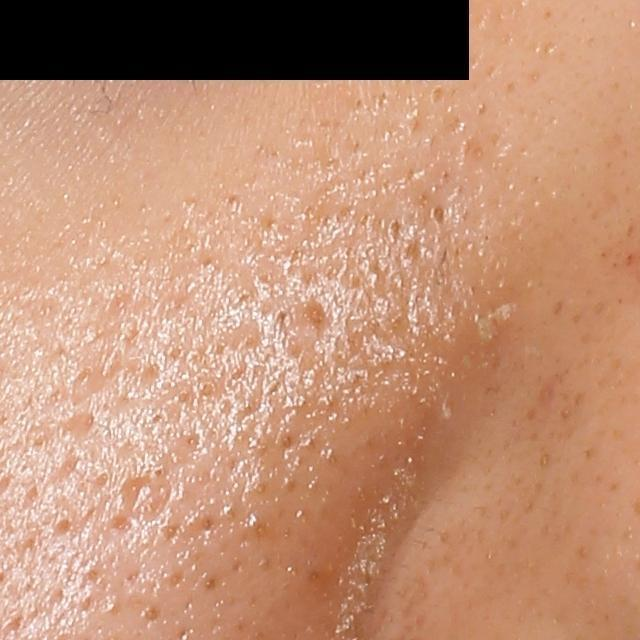atrophic_scar: (114, 474, 151, 518), (47, 412, 96, 441), (303, 298, 334, 336)
